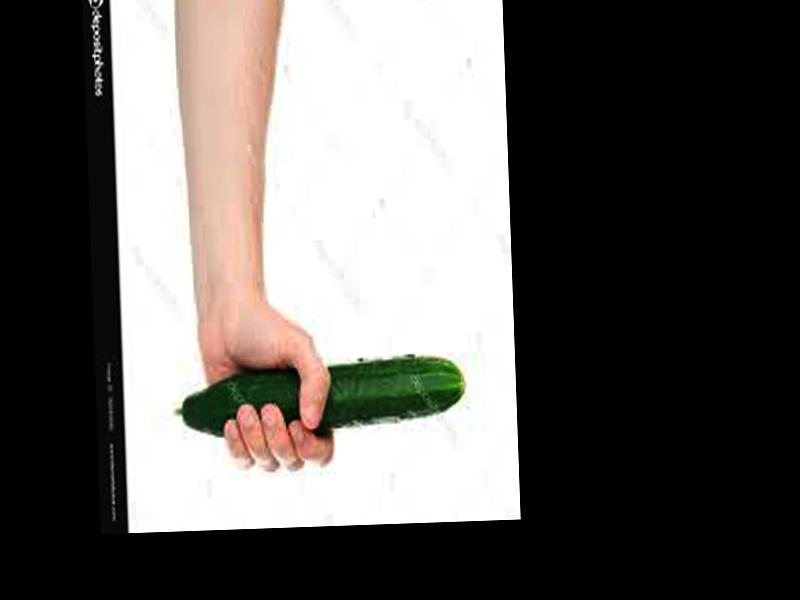Cucumber: (174, 355, 465, 438)
